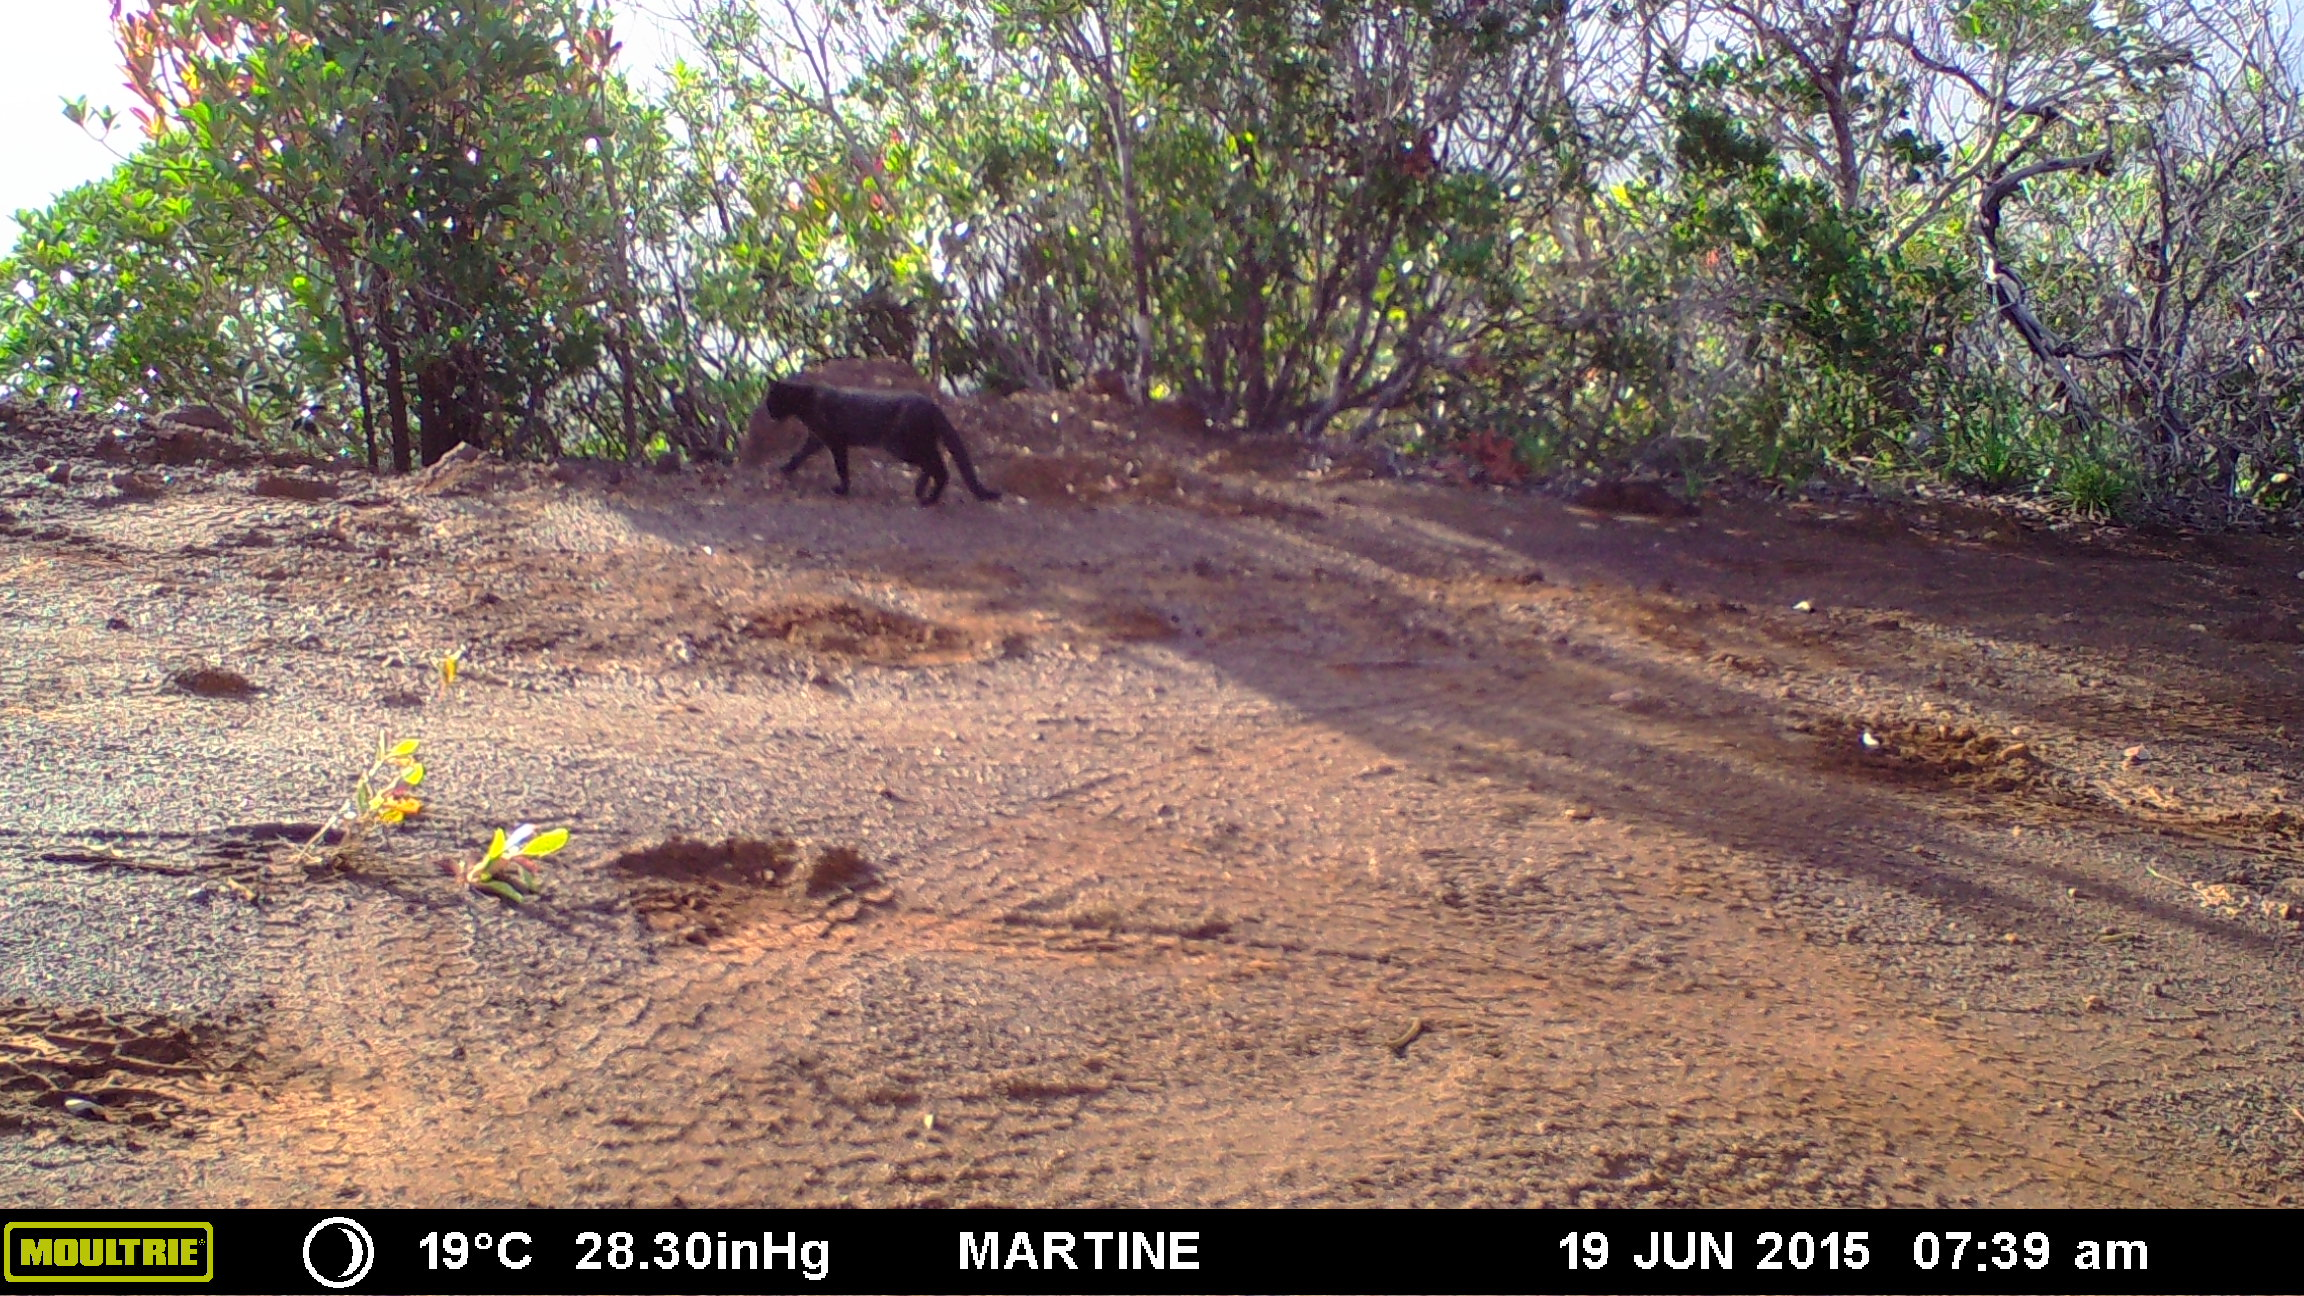cat: (744, 364, 1033, 532)
